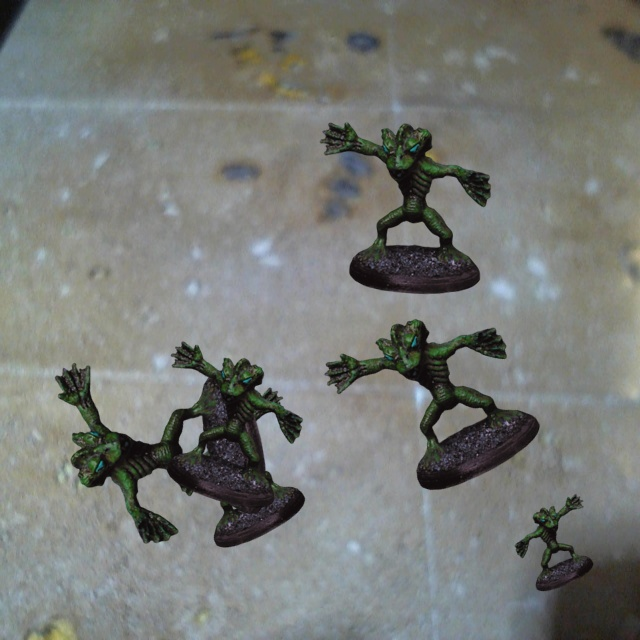pieza_juego: (55, 363, 266, 543), (324, 319, 539, 489), (320, 122, 490, 293), (167, 341, 302, 507), (176, 388, 304, 547), (515, 494, 592, 590)
